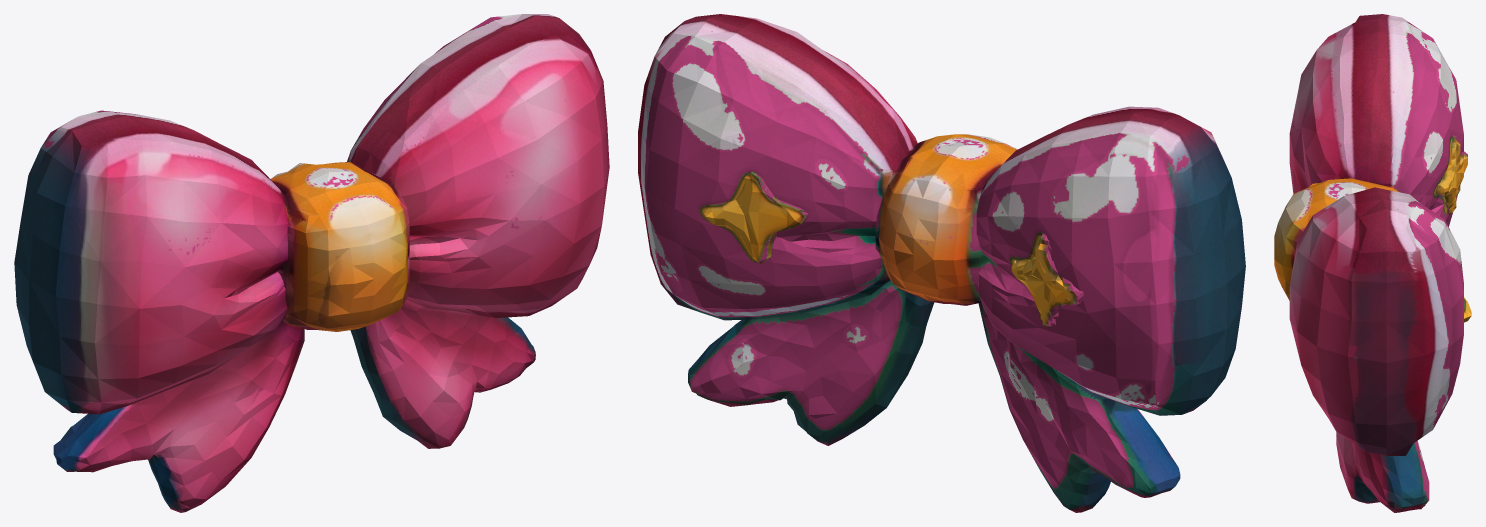
The model's file is lacos_01.glb.
3 views of the same model, side by side, from view 1: azimuth 30°, elevation 25°; view 2: azimuth 150°, elevation 25°; view 3: azimuth 270°, elevation 25° (orthographic). The views are drawn at different scales.
Parts seen in each view (by area): view 1: tripo_part_0_item_01, tripo_part_21_item_01, tripo_part_1_item_01, tripo_part_23_item_01, tripo_part_17_item_01; view 2: tripo_part_0_item_01, tripo_part_21_item_01, tripo_part_17_item_01, tripo_part_1_item_01, tripo_part_23_item_01, tripo_part_32_item_01, tripo_part_9_item_01; view 3: tripo_part_21_item_01, tripo_part_0_item_01, tripo_part_17_item_01, tripo_part_23_item_01, tripo_part_9_item_01.
Boxes of the visible parts, <box> form: tripo_part_0_item_01: <box>14,110,288,414</box>; tripo_part_21_item_01: <box>347,14,609,317</box>; tripo_part_1_item_01: <box>53,319,304,512</box>; tripo_part_23_item_01: <box>270,162,409,331</box>; tripo_part_17_item_01: <box>350,299,535,448</box>; tripo_part_0_item_01: <box>976,106,1245,415</box>; tripo_part_21_item_01: <box>638,14,917,320</box>; tripo_part_17_item_01: <box>688,280,934,445</box>; tripo_part_1_item_01: <box>978,302,1180,512</box>; tripo_part_23_item_01: <box>875,134,1017,305</box>; tripo_part_32_item_01: <box>702,173,808,263</box>; tripo_part_9_item_01: <box>1011,233,1083,327</box>; tripo_part_21_item_01: <box>1289,187,1463,455</box>; tripo_part_0_item_01: <box>1289,14,1463,226</box>; tripo_part_17_item_01: <box>1336,432,1429,512</box>; tripo_part_23_item_01: <box>1274,178,1399,300</box>; tripo_part_9_item_01: <box>1436,135,1467,214</box>.
Size of the model in its own units: 0.2838 by 0.1937 by 0.0998.
Materials: 13 (13 with a texture image).
